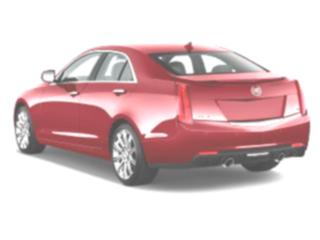cadillac: (245, 82, 265, 97)
